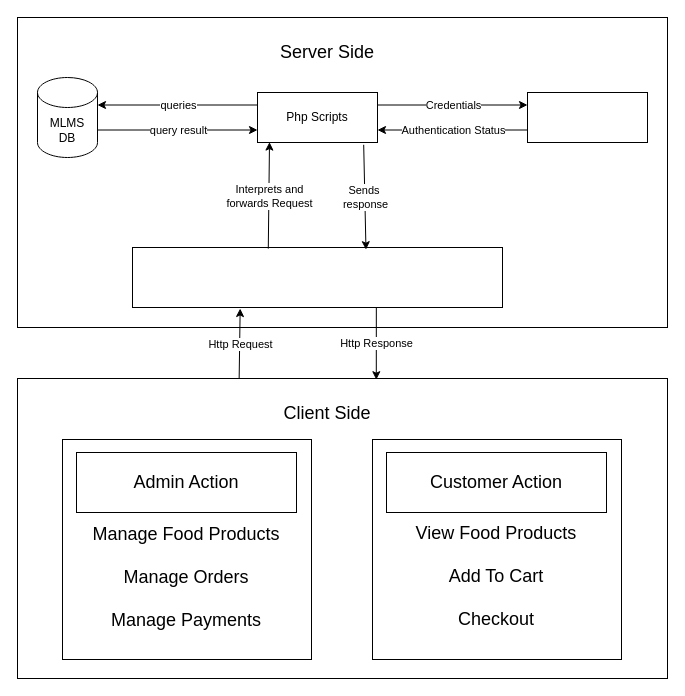
This 685x696 diagram has some shape labels left out. The box of each missing label's shape, as (x1, y1, x2, y2) in pixels:
Apache Server: (132, 246, 502, 308)
Authentication: (526, 92, 648, 142)
